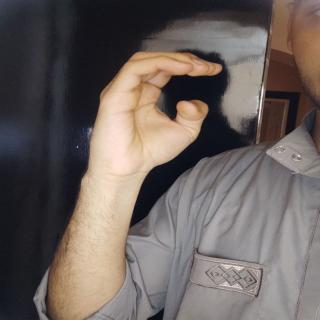JEEM: (74, 45, 226, 194)
